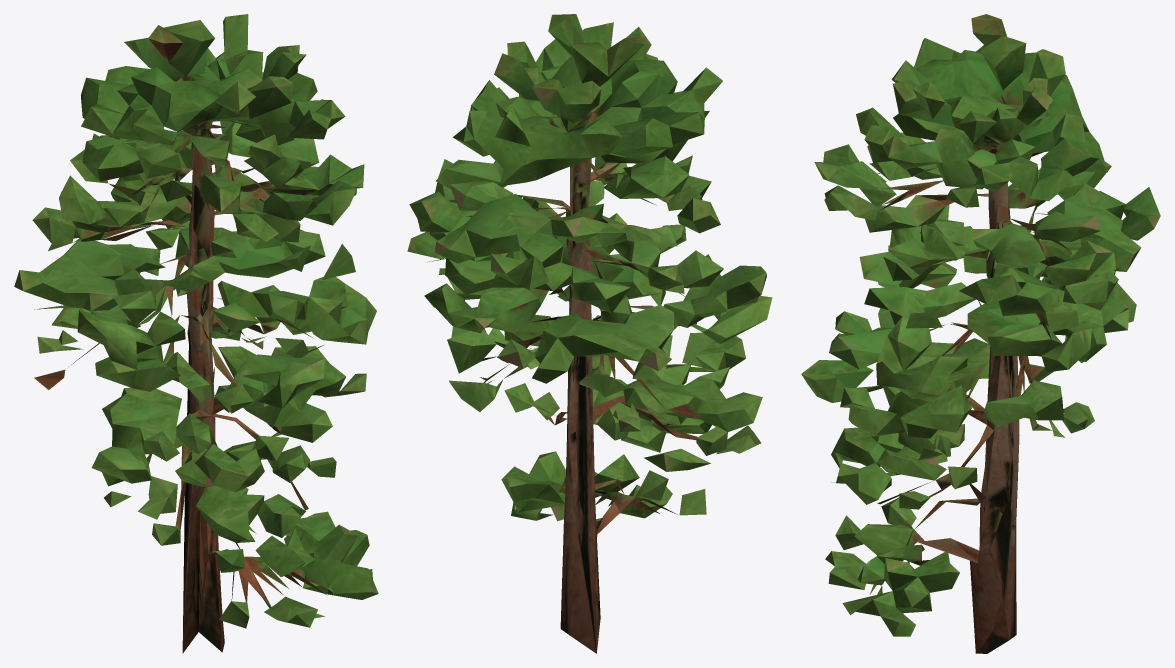
3 views of the same model, side by side, from view 1: azimuth 30°, elevation 25°; view 2: azimuth 150°, elevation 25°; view 3: azimuth 270°, elevation 25° (orthographic). The views are drawn at different scales.
Parts seen in each view (by area): view 1: pine; view 2: pine; view 3: pine.
Boxes of the visible parts, bbox=[...] form: pine: bbox=[14, 14, 378, 653]; pine: bbox=[407, 14, 772, 653]; pine: bbox=[801, 14, 1160, 653].
Size of the model in its own units: 0.9356 by 1.85 by 0.9805.
1 material, 1 textured.
